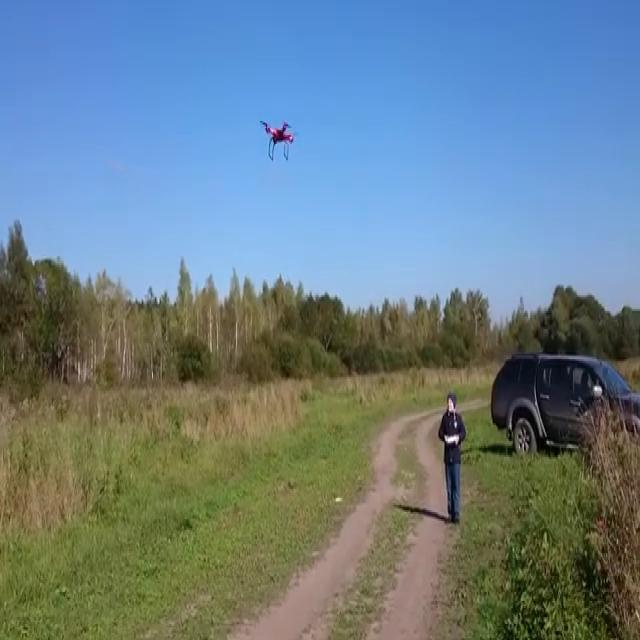Drons: (258, 114, 302, 164)
